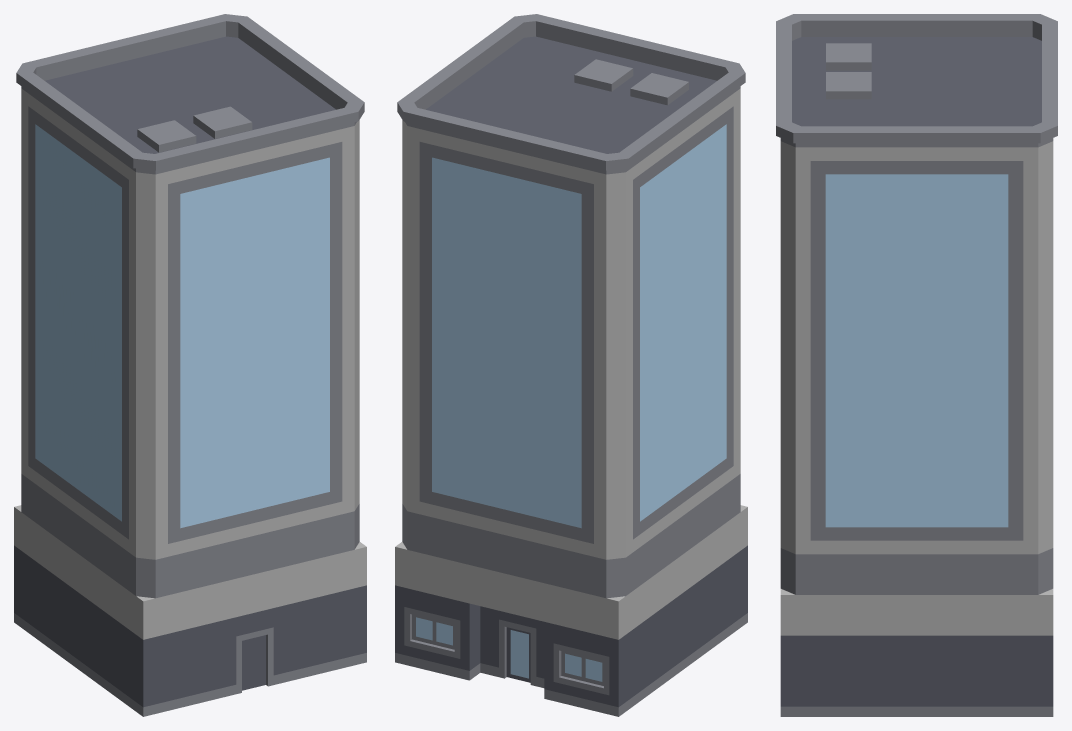
Rendered from city_skyscraper_a.obj.
3 views of the same model, side by side, from view 1: azimuth 30°, elevation 25°; view 2: azimuth 150°, elevation 25°; view 3: azimuth 270°, elevation 25° (orthographic). The views are drawn at different scales.
Visible parts, largest first — view 1: mergedBlocks; view 2: mergedBlocks; view 3: mergedBlocks.
Boxes of the visible parts, box(x1,y1,x2,y2) form: mergedBlocks: box(14, 14, 366, 716); mergedBlocks: box(395, 14, 747, 716); mergedBlocks: box(776, 14, 1057, 716).
Size of the model in its own units: 1 by 2.3 by 1.
